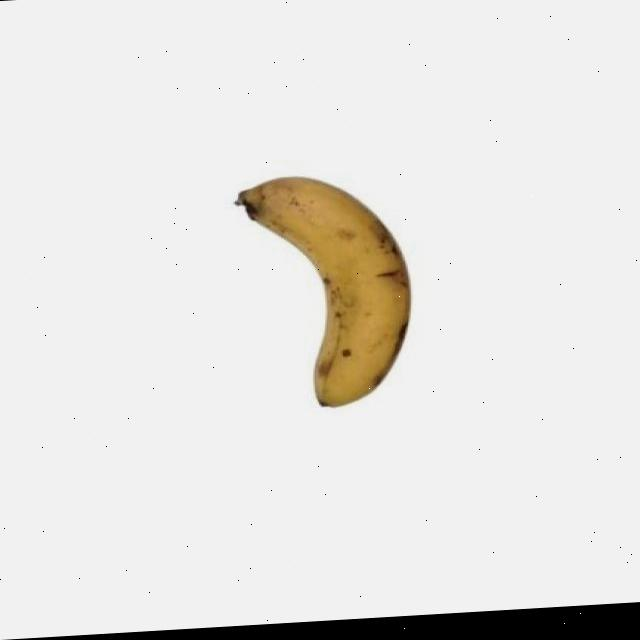banana: (228, 162, 418, 417)
